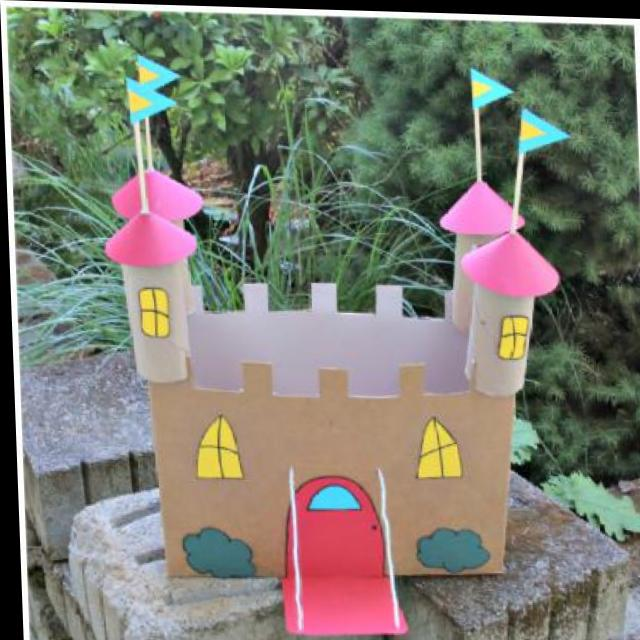box: (92, 143, 597, 640)
